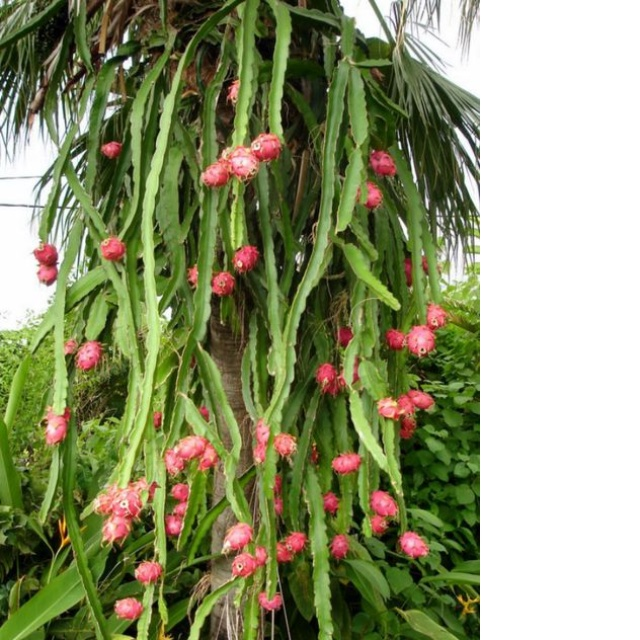tao: (196, 133, 261, 200), (73, 475, 148, 519), (174, 430, 222, 488), (17, 233, 65, 289), (338, 173, 399, 214), (40, 394, 80, 456), (392, 522, 444, 564), (213, 513, 262, 554), (99, 513, 145, 555), (68, 331, 109, 376), (250, 129, 291, 173), (405, 322, 446, 364), (225, 242, 262, 288), (95, 225, 130, 270), (357, 481, 403, 515), (268, 425, 303, 464), (325, 440, 364, 475), (97, 133, 128, 173), (372, 392, 403, 426), (232, 550, 258, 588), (283, 523, 307, 559)
